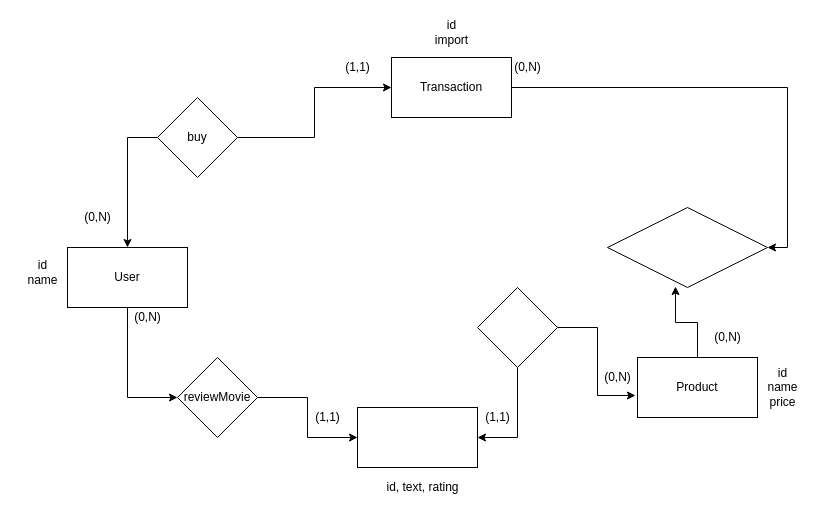
Some shapes in this 824 by 514 pixel diagram are drawn without their labels. Here are the shapes that lost their labels. From the top down, the centre of each, then its label:
pixel 687 247: product_transactions
pixel 517 327: isReview
pixel 417 437: Review
